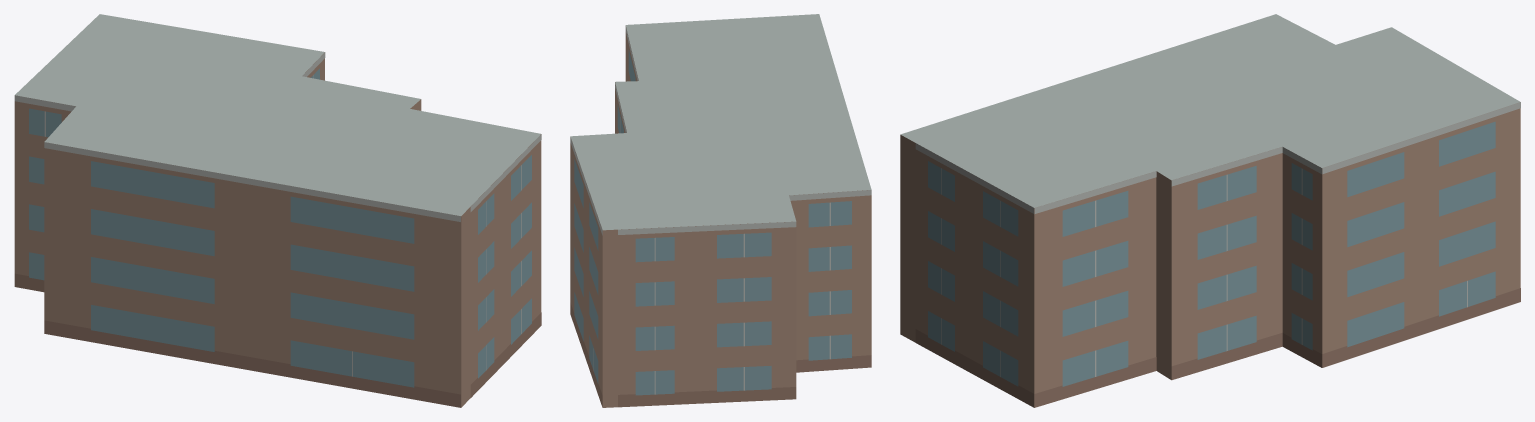
The model's file is survey-upis-32476687.glb.
The picture shows the model from 3 angles, left to right: view 1: azimuth 30°, elevation 25°; view 2: azimuth 150°, elevation 25°; view 3: azimuth 270°, elevation 25°; orthographic projection. The views are drawn at different scales.
Parts seen in each view (by area): view 1: survey-upis-32476687.tmp; view 2: survey-upis-32476687.tmp; view 3: survey-upis-32476687.tmp.
Boxes of the visible parts, box(x1,y1,x2,y2) form: survey-upis-32476687.tmp: box(14, 14, 541, 407); survey-upis-32476687.tmp: box(570, 14, 871, 407); survey-upis-32476687.tmp: box(900, 14, 1520, 407).
Bounding box in the file's own units: 16.24 × 7.8 × 21.95.
